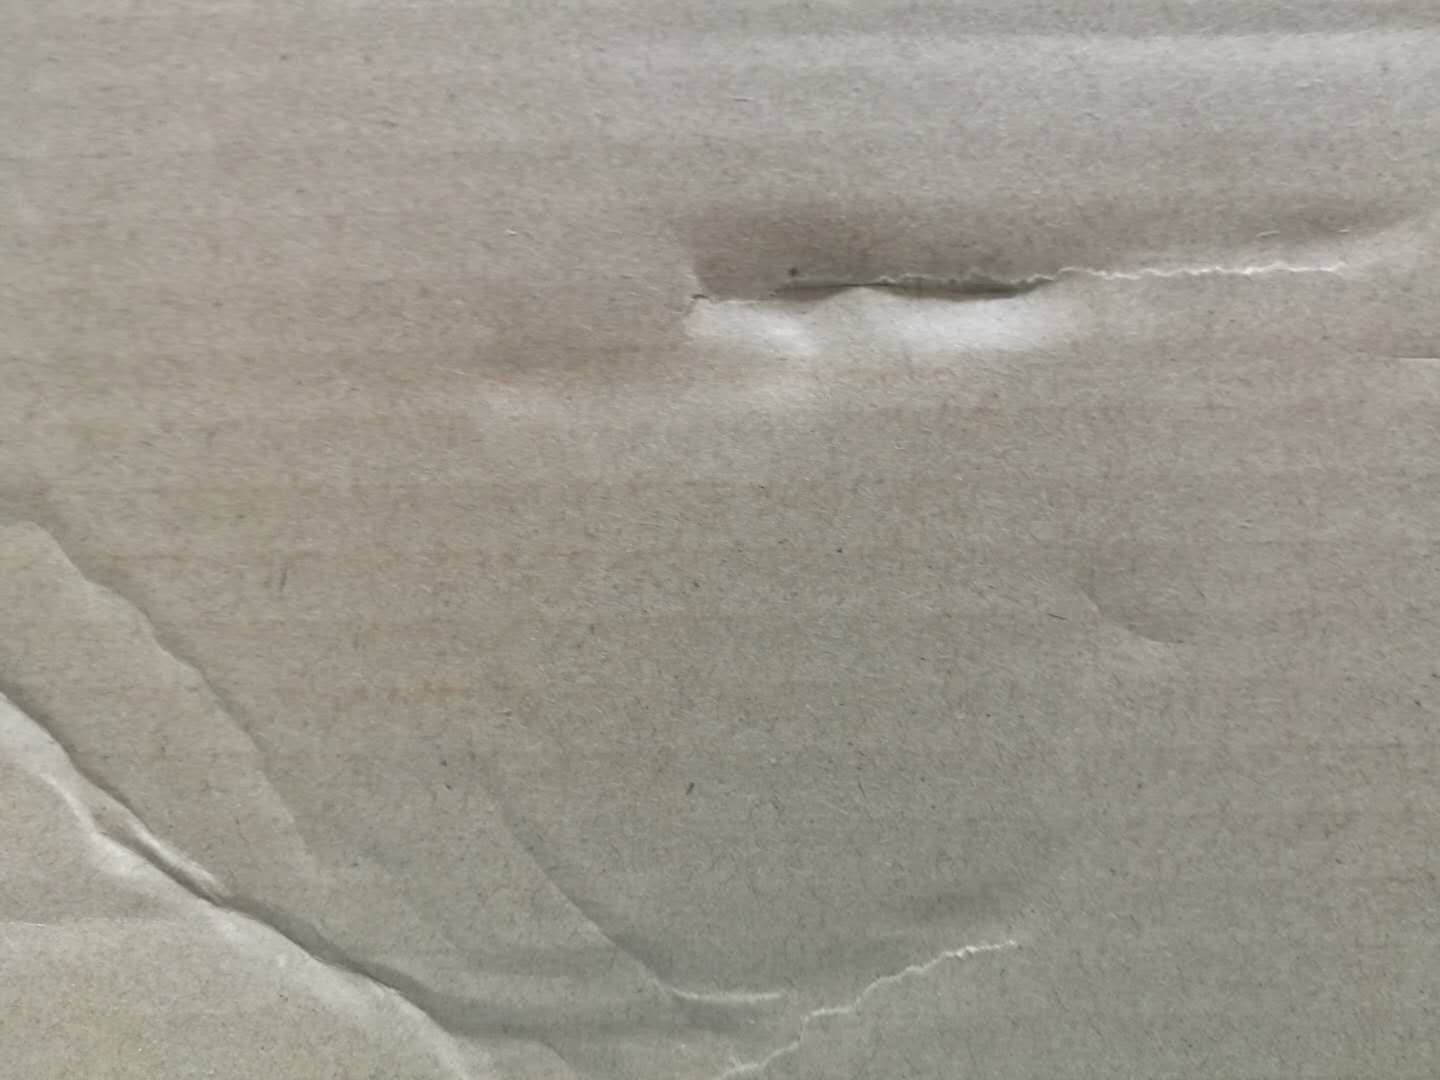defect: (2, 449, 1057, 1080), (444, 170, 1440, 434), (1067, 534, 1202, 687)
